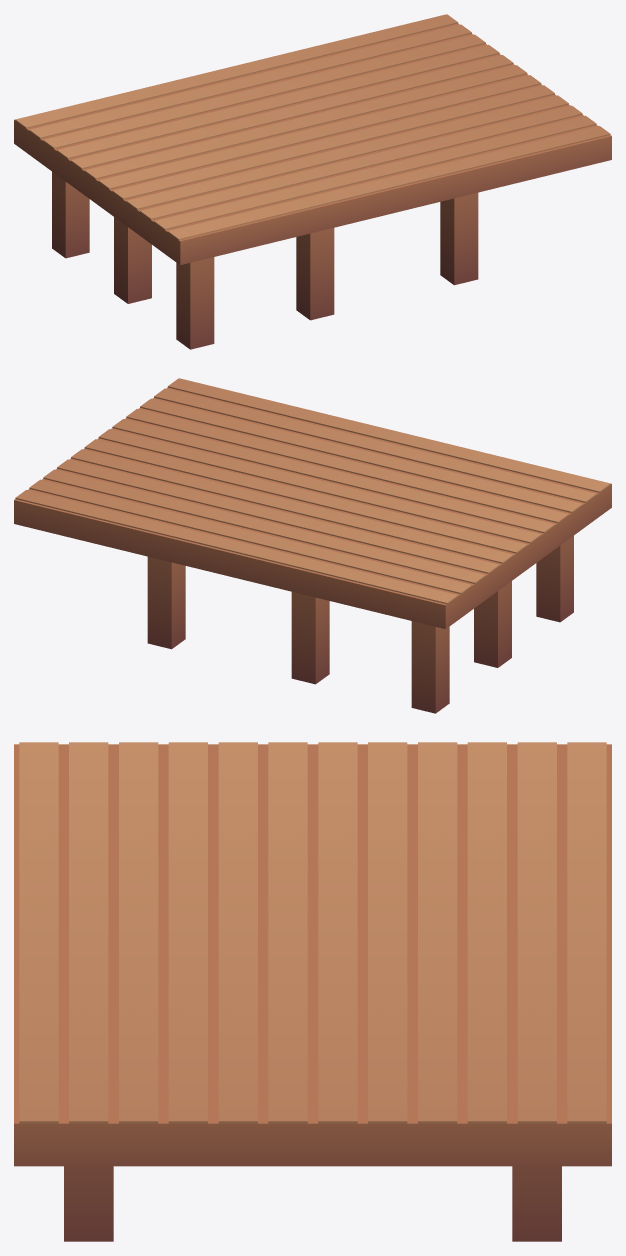
File: Dock1.fbx
3 renders of one model, top to bottom at view 1: azimuth 30°, elevation 25°; view 2: azimuth 150°, elevation 25°; view 3: azimuth 270°, elevation 25°, orthographic. The views are drawn at different scales.
Visible parts, largest first — view 1: Plane.087; view 2: Plane.087; view 3: Plane.087.
Part boxes in pixels (box(x1,y1,x2,y2)): Plane.087: box(14, 14, 611, 349); Plane.087: box(14, 378, 611, 713); Plane.087: box(14, 742, 611, 1241).
Size of the model in its own units: 1800 by 500 by 1200.
